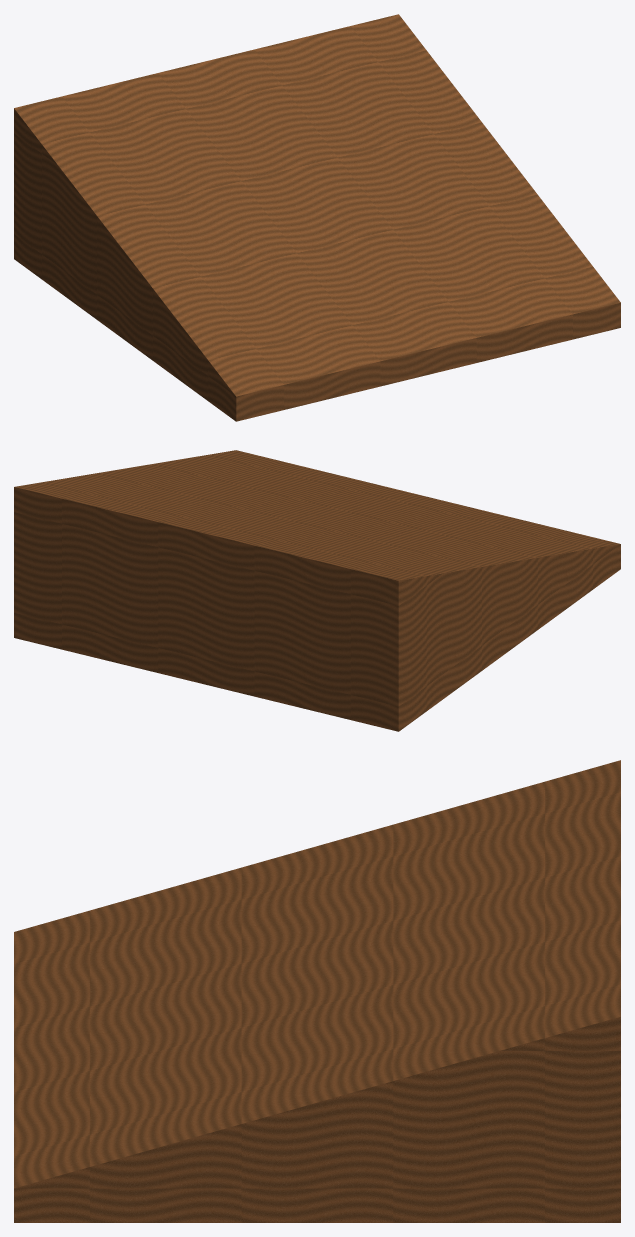
The model's file is estate_roof_slope_4p.glb.
3 renders of one model, top to bottom at view 1: azimuth 30°, elevation 25°; view 2: azimuth 150°, elevation 25°; view 3: azimuth 270°, elevation 25°, orthographic. The views are drawn at different scales.
Visible parts, largest first — view 1: wedge; view 2: wedge; view 3: wedge.
Part boxes in pixels (bbox=[...]): wedge: bbox=[14, 14, 620, 421]; wedge: bbox=[14, 450, 620, 731]; wedge: bbox=[14, 760, 620, 1222].
Bounding box in the file's own units: 4 × 1.5 × 4.
Materials: 1 (1 with a texture image).
